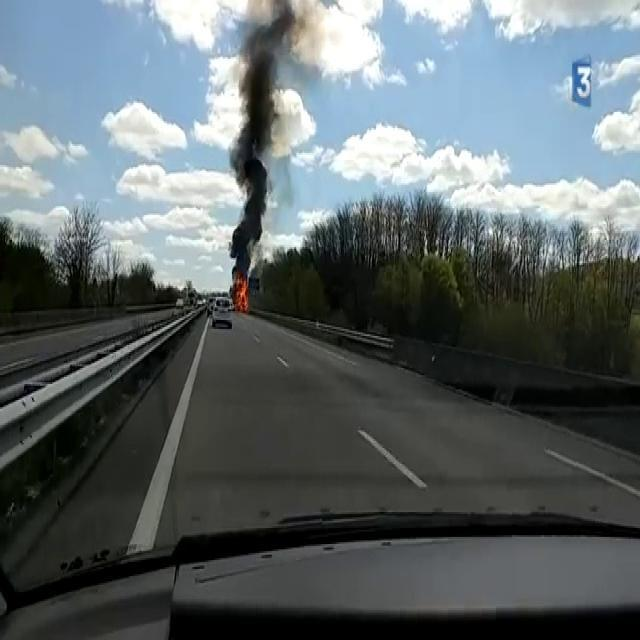Fire: (234, 271, 250, 316)
Smoke: (232, 0, 323, 268)
